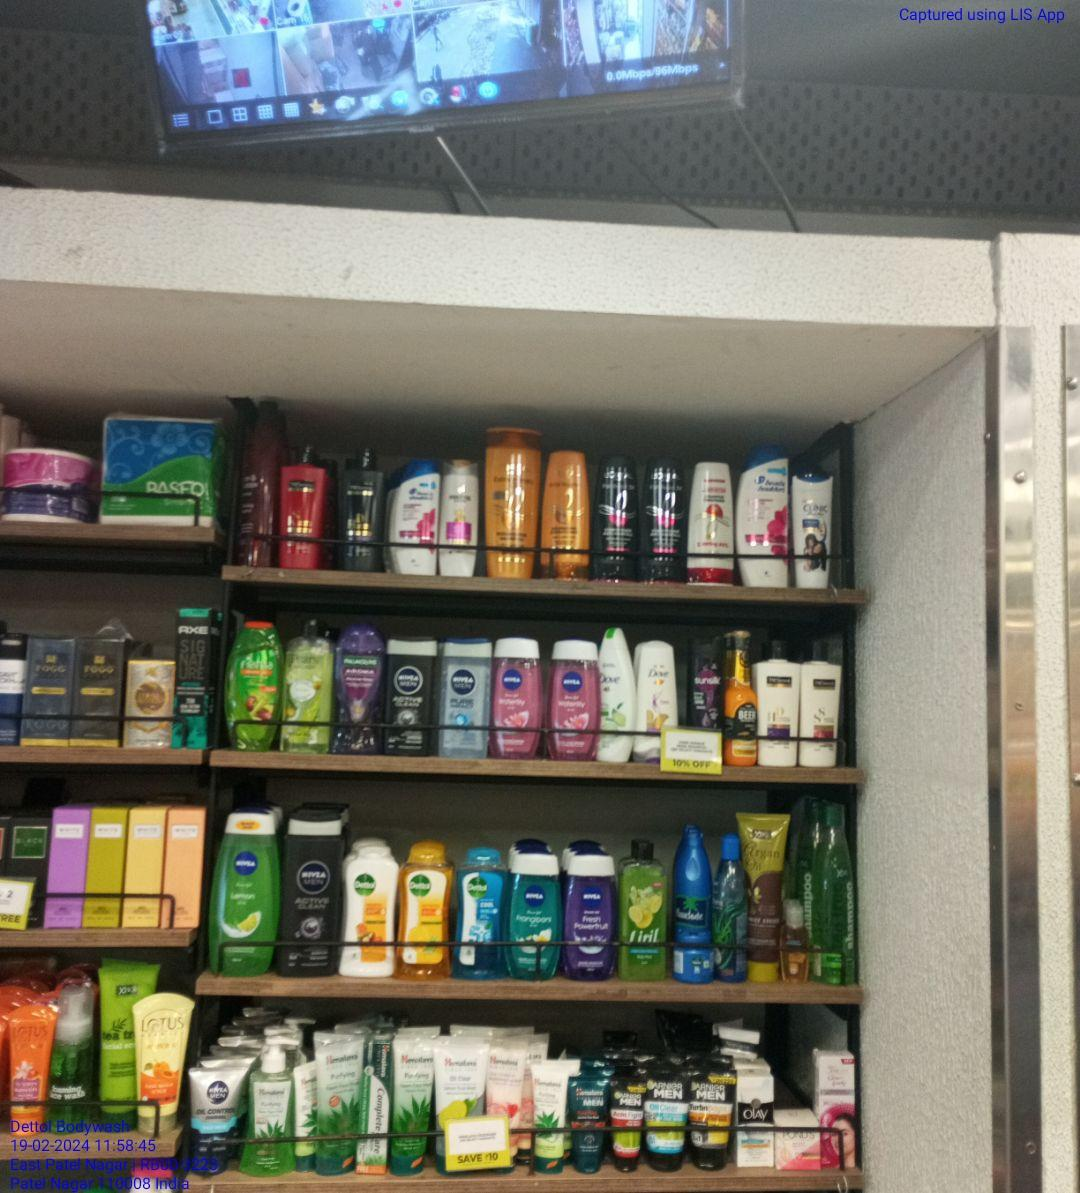Dettol_Bodywash_Cool: (454, 848, 509, 978)
Dettol_Bodywash_Refresh: (401, 846, 454, 982)
Fiama_Shower_Gel_Lemongrass_and_Jojoba_250ML: (228, 624, 284, 749)
Liril_Lime_and_Tea_Tree_Oil_Body_Wash_250ML: (620, 839, 665, 977)
Nivea_Shower_Gel_Frangipani_and_Oil_250ML: (511, 854, 561, 974)
Nivea_Shower_Gel_Fresh_Powerfruit_250ML: (562, 854, 618, 979)
Nivea_Shower_Gel_Waterlily_and_Oil_250ML: (545, 636, 600, 761), (492, 641, 542, 759)
Palmolive_Aroma_Relax_250ML: (337, 621, 378, 750)
Pears_Naturale_Aloe_Vera_Body_Wash_250ML: (285, 620, 334, 754)
